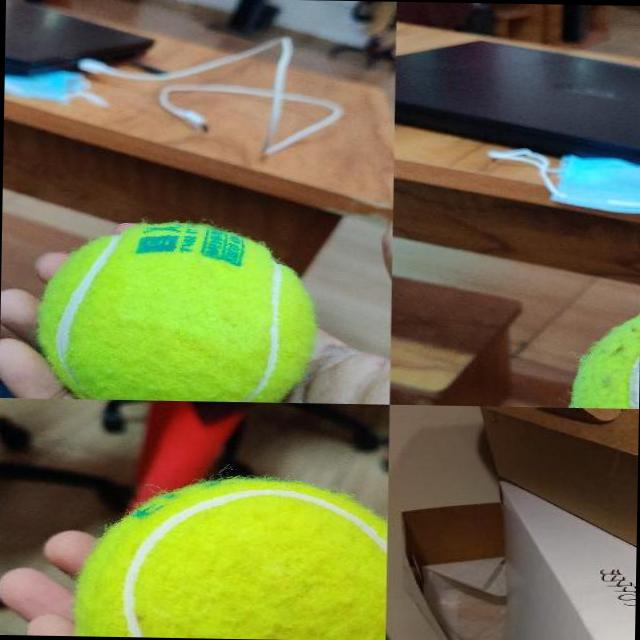Tennis Ball: (75, 476, 388, 640), (36, 220, 314, 402)
